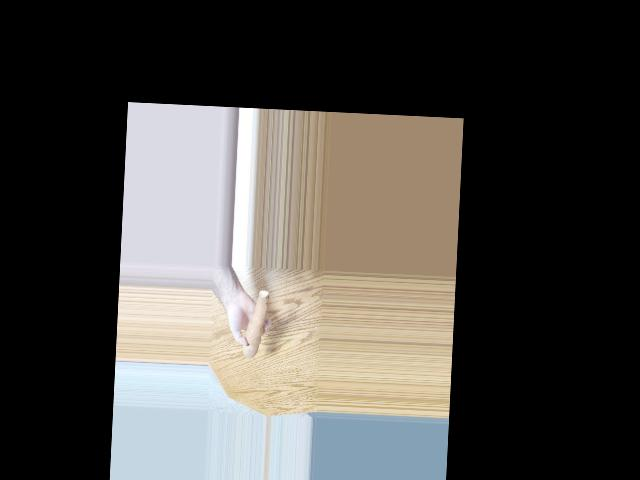sweet_potato: (246, 286, 268, 362)
